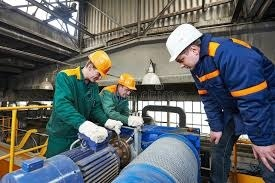helmet: (165, 23, 203, 64), (86, 50, 112, 79), (117, 72, 140, 92)
person with partial safety: (166, 24, 275, 136), (51, 50, 112, 123), (111, 72, 137, 118)
